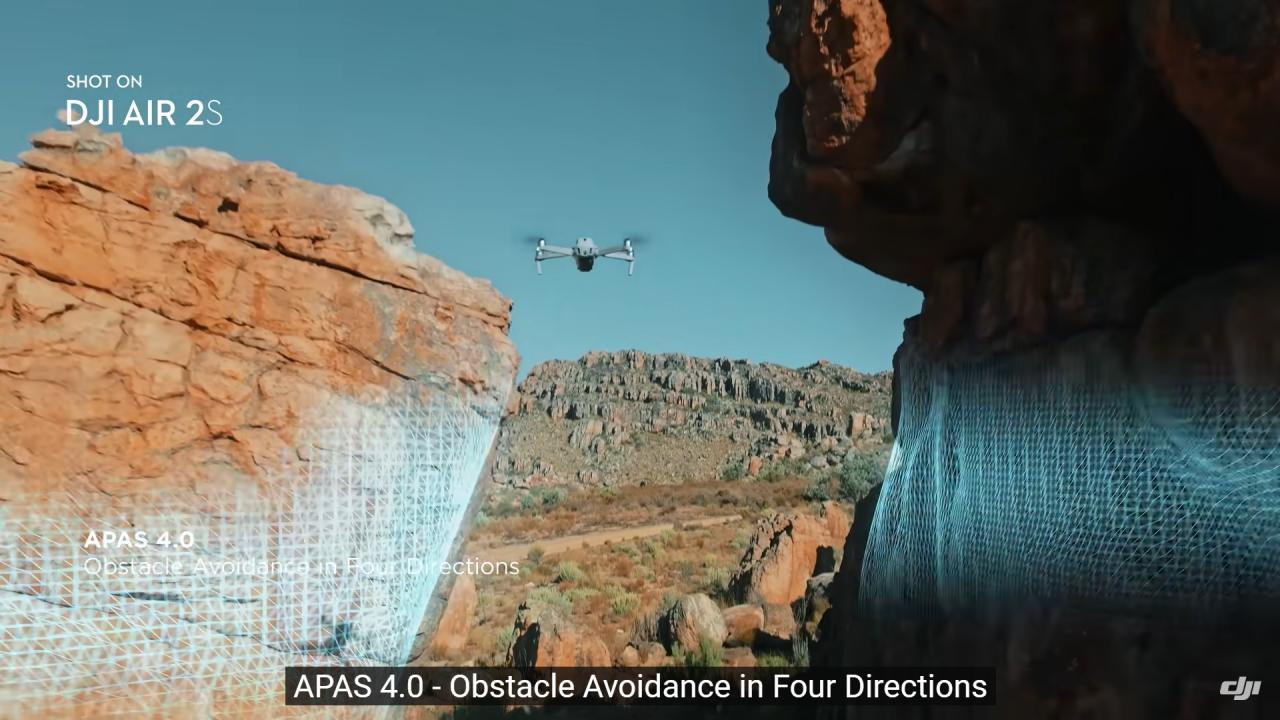Drone: (514, 224, 658, 283)
